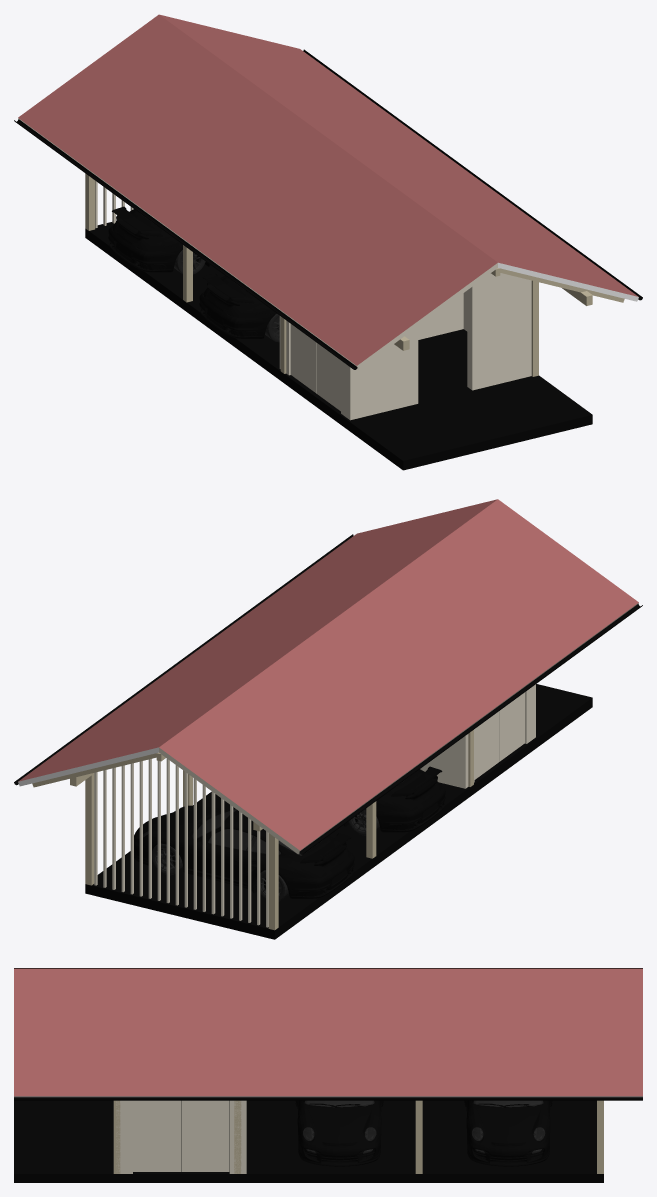
3 views of the same model, one above another, from view 1: azimuth 30°, elevation 25°; view 2: azimuth 150°, elevation 25°; view 3: azimuth 270°, elevation 25° (orthographic). The views are drawn at different scales.
Parts seen in each view (by area): view 1: object 1, object 2, object 61, object 127, part 012 (×6), object 129, object 118, object 128, object 122, object 123, object 119, object 107; view 2: object 1, object 2, object 61, part 012 (×9), object 118, object 128, object 123, object 122, object 110, object 119, object 106, part 003 (+1 smaller); view 3: object 2, object 61, part 012 (×6), object 121, object 120, object 119, part 003 (×2), object 127, object 128, object 118, object 109, object 107 (+2 smaller).
Boxes of the visible parts, x1=… form: object 1: x1=18, y1=14, x2=497, y2=369; object 2: x1=159, y1=14, x2=638, y2=301; object 61: x1=85, y1=220, x2=592, y2=470; object 127: x1=467, y1=273, x2=531, y2=390; part 012 (×6): x1=108, y1=206, x2=276, y2=338; object 129: x1=341, y1=326, x2=418, y2=420; object 118: x1=14, y1=119, x2=357, y2=369; object 128: x1=279, y1=290, x2=467, y2=375; object 122: x1=290, y1=324, x2=316, y2=393; object 123: x1=316, y1=343, x2=340, y2=411; object 119: x1=303, y1=49, x2=642, y2=300; object 107: x1=531, y1=280, x2=538, y2=376; object 1: x1=159, y1=499, x2=638, y2=854; object 2: x1=18, y1=499, x2=497, y2=786; object 61: x1=85, y1=684, x2=592, y2=939; part 012 (×9): x1=134, y1=766, x2=445, y2=898; object 118: x1=299, y1=604, x2=642, y2=854; object 128: x1=420, y1=729, x2=474, y2=788; object 123: x1=499, y1=692, x2=524, y2=761; object 122: x1=474, y1=711, x2=498, y2=779; object 110: x1=85, y1=774, x2=94, y2=885; object 119: x1=14, y1=534, x2=353, y2=785; object 106: x1=268, y1=833, x2=278, y2=930; part 003: x1=143, y1=807, x2=301, y2=855; object 2: x1=14, y1=968, x2=642, y2=1097; object 61: x1=14, y1=1100, x2=603, y2=1182; part 012 (×6): x1=297, y1=1102, x2=550, y2=1166; object 121: x1=181, y1=1100, x2=229, y2=1171; object 120: x1=133, y1=1100, x2=180, y2=1171; object 119: x1=14, y1=1097, x2=642, y2=1100; part 003 (×2): x1=303, y1=1100, x2=544, y2=1153; object 127: x1=116, y1=1100, x2=132, y2=1173; object 128: x1=229, y1=1100, x2=246, y2=1173; object 118: x1=14, y1=968, x2=642, y2=968; object 109: x1=415, y1=1100, x2=422, y2=1173; object 107: x1=113, y1=1100, x2=120, y2=1173.
Bounding box in the file's own units: 6.42 × 3.91 × 13.01.
